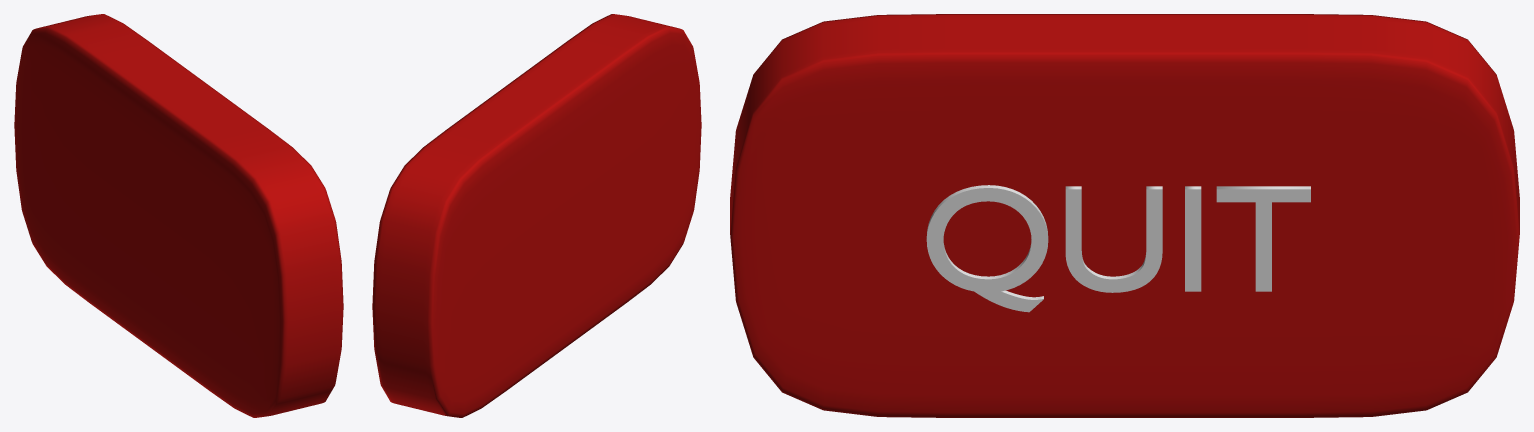
Rendered from ButtonEndGame.fbx.
3 renders of one model, left to right at view 1: azimuth 30°, elevation 25°; view 2: azimuth 150°, elevation 25°; view 3: azimuth 270°, elevation 25°, orthographic. The views are drawn at different scales.
Visible parts, largest first — view 1: Button; view 2: Button; view 3: Button, Start.
Part boxes in pixels (x1,y1,x2,y2): Button: [14, 14, 343, 417]; Button: [372, 14, 701, 417]; Button: [730, 14, 1519, 417]; Start: [926, 185, 1310, 312].
Size of the model in its own units: 46.28 by 164 by 321.
